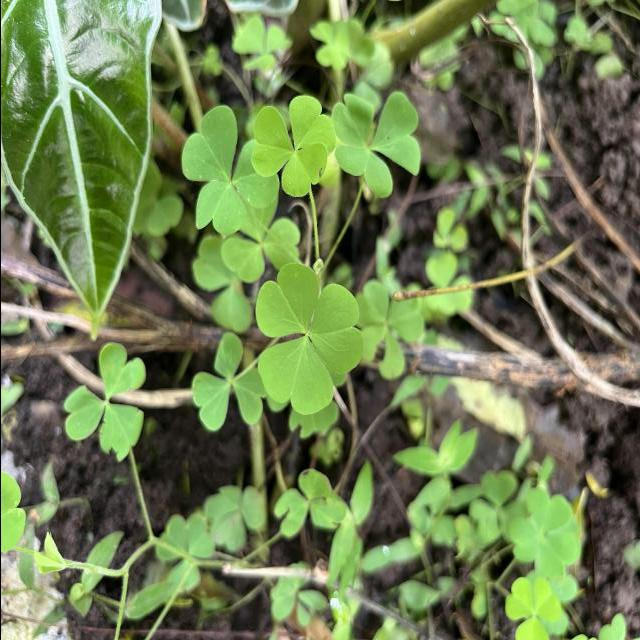Oxalis corniculata: (253, 261, 364, 416), (180, 105, 280, 238), (61, 342, 147, 464), (330, 90, 420, 200), (250, 94, 336, 198), (190, 332, 266, 434), (508, 484, 577, 580), (503, 576, 562, 640)
